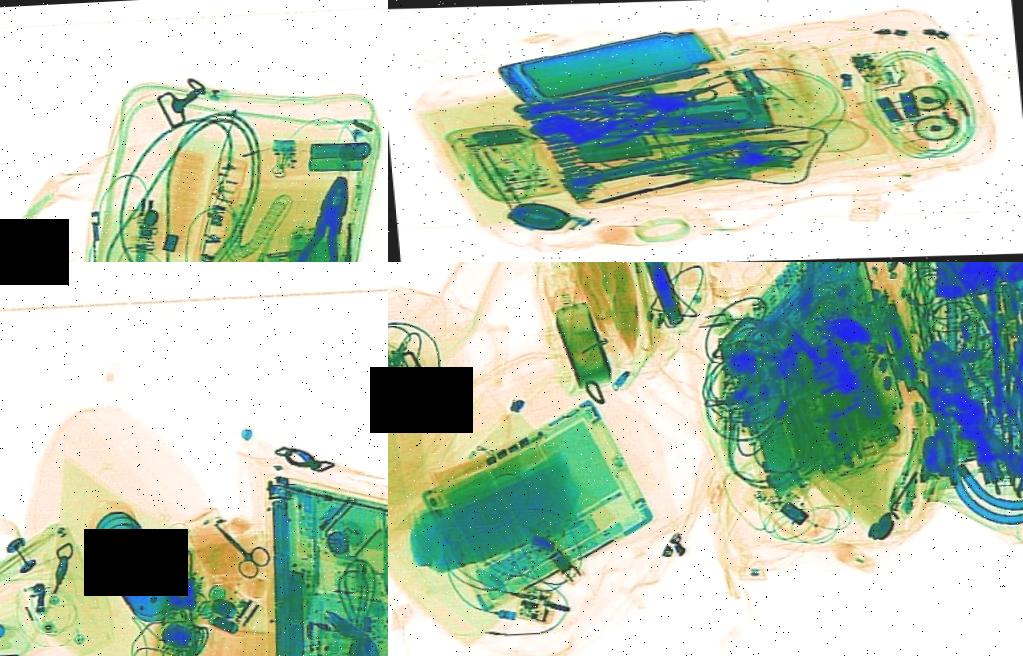Pliers: (520, 64, 772, 151), (265, 167, 369, 262)
Scissors: (196, 507, 278, 584)
